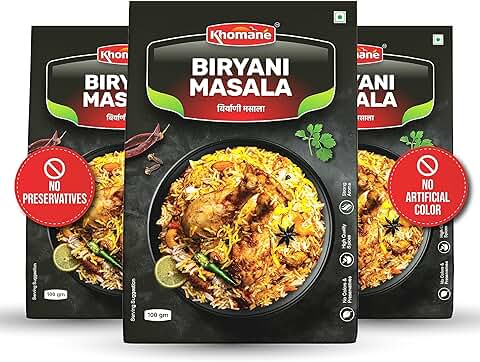Biryani: (126, 1, 361, 347)
